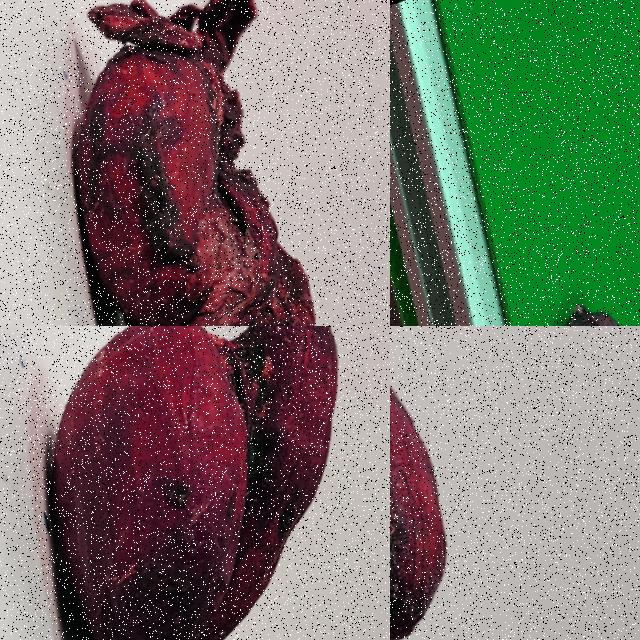Agglomerated_cocoabeans: (0, 0, 389, 325), (0, 326, 389, 639), (390, 326, 584, 639)
Flat_cocoabeans: (501, 248, 639, 325)
